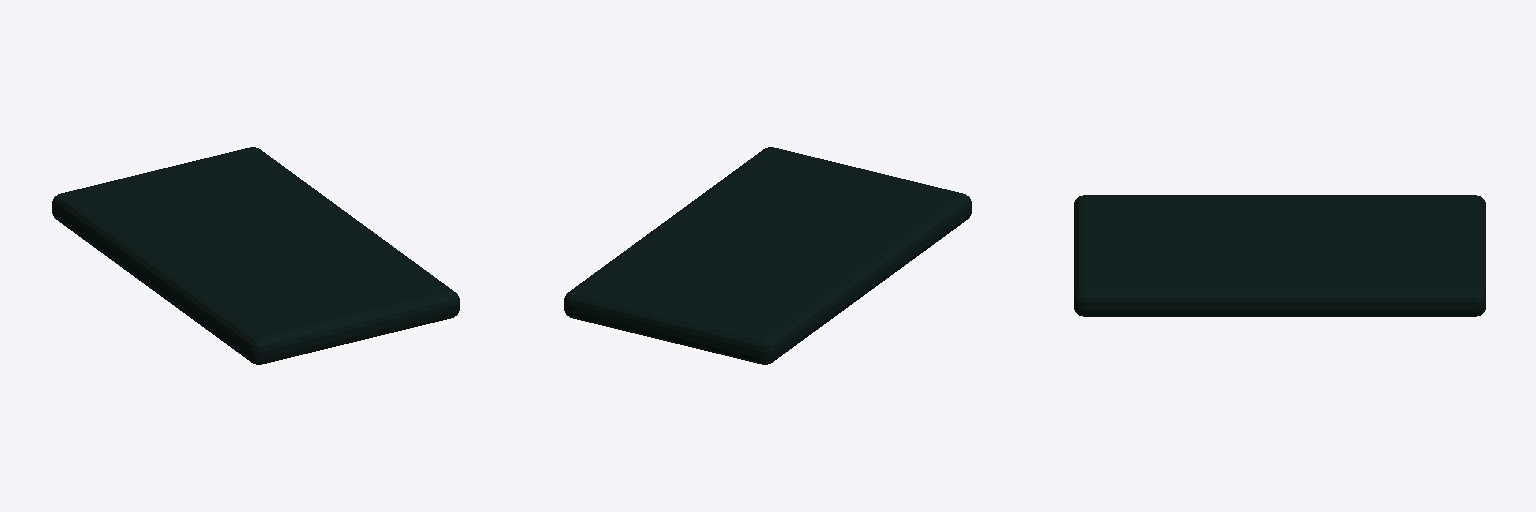
Rendered from bed2.obj.
3 views of the same model, side by side, from view 1: azimuth 30°, elevation 25°; view 2: azimuth 150°, elevation 25°; view 3: azimuth 270°, elevation 25° (orthographic).
Visible parts, largest first — view 1: Mattress; view 2: Mattress; view 3: Mattress.
Boxes of the visible parts, <box> form: Mattress: <box>52,147,459,364</box>; Mattress: <box>564,147,971,364</box>; Mattress: <box>1074,195,1485,316</box>.
Size of the model in its own units: 0.6964 by 0.0835 by 1.19.